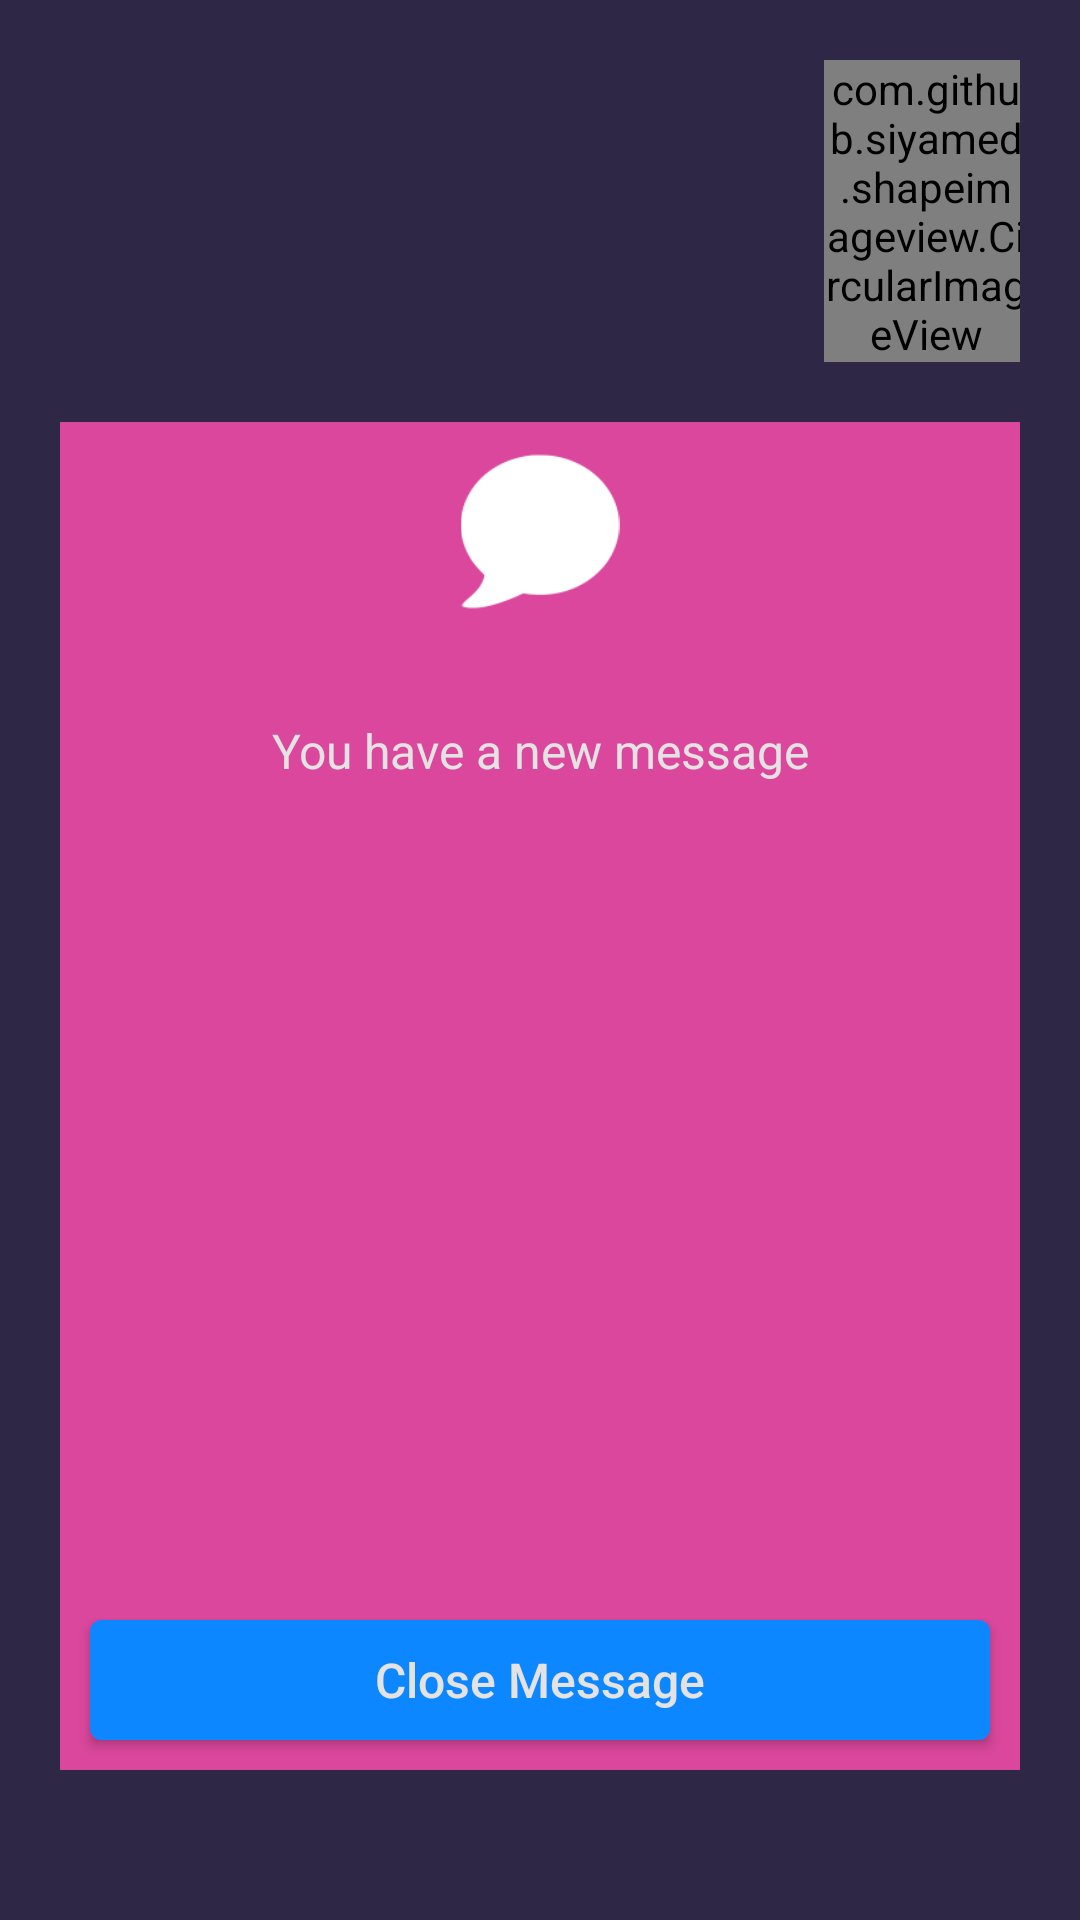

Icon bounding boxes for this 1080px x 1920px phone screenshot, format (x1, y1, x2, y2):
chat: (461, 454, 620, 609)
